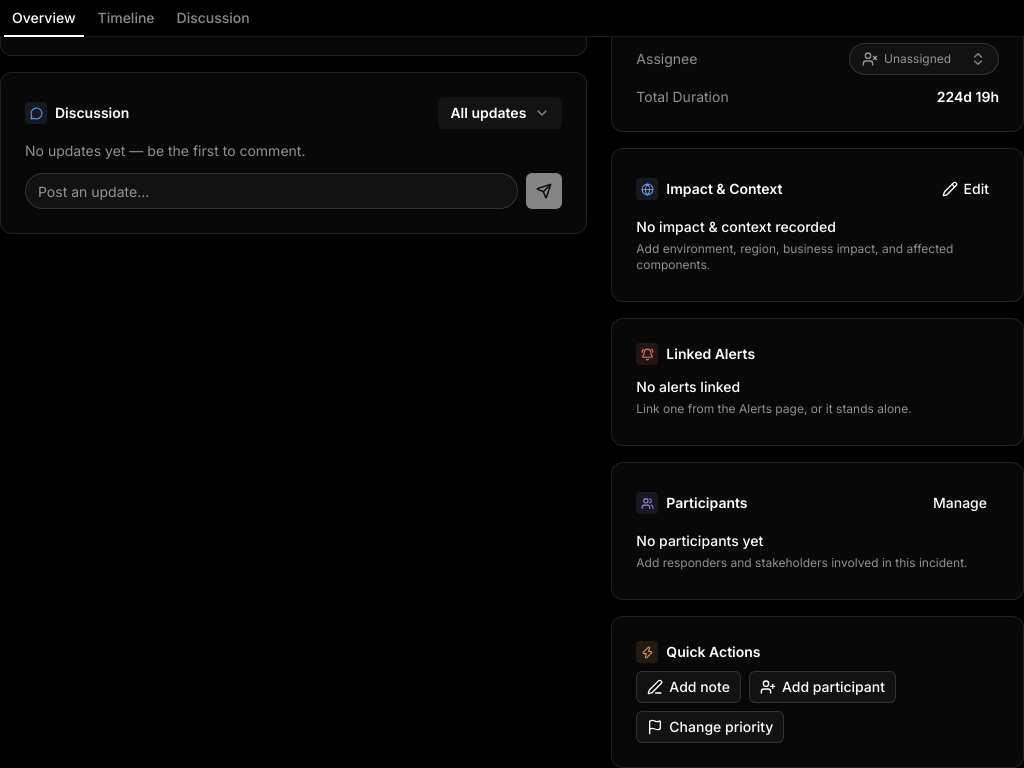
Test: IncidentDetailPage — quick actions › opens the participants dialog via Add participant
(page scrolled)
Step 1. Click the button "Add participant" → click(822, 687), box left=749, top=671, right=896, bottom=703
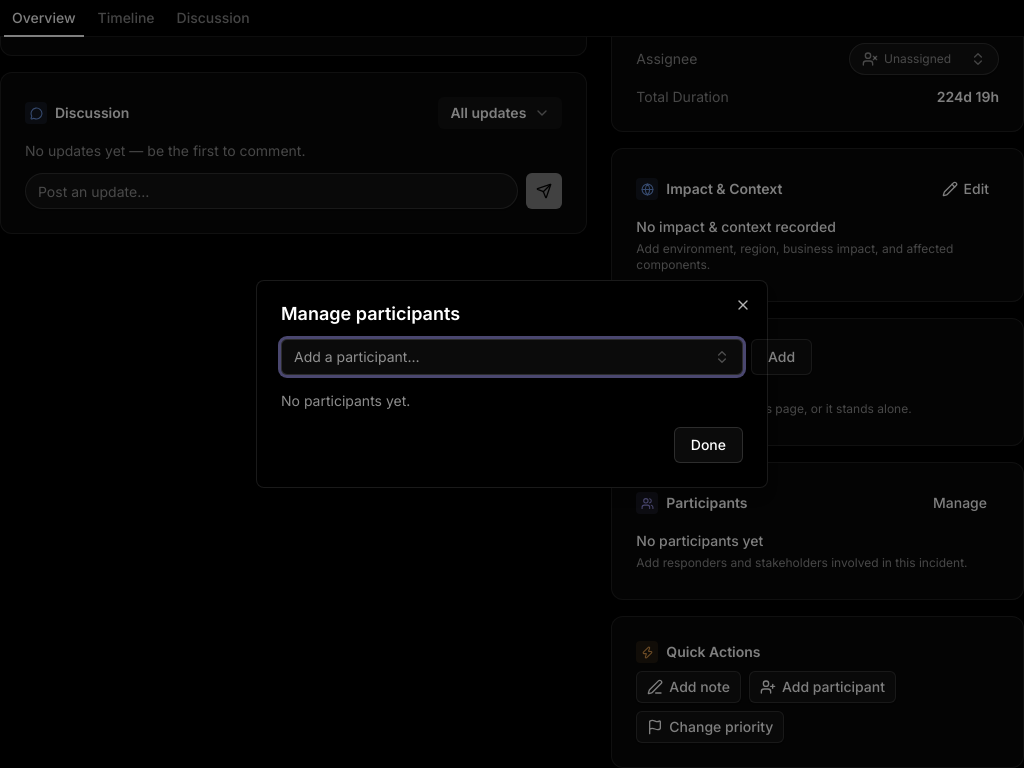
expect the dialog is shown: met, box left=256, top=280, right=768, bottom=488
